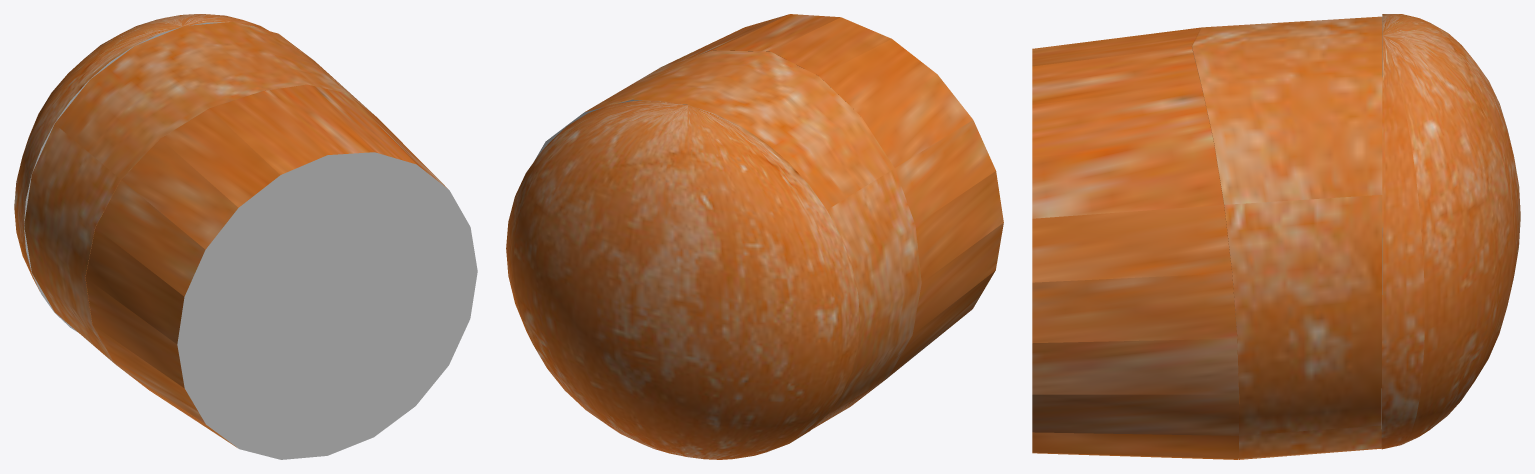
File: Carrot_end.fbx
3 renders of one model, left to right at view 1: azimuth 30°, elevation 25°; view 2: azimuth 150°, elevation 25°; view 3: azimuth 270°, elevation 25°, orthographic. The views are drawn at different scales.
Visible parts, largest first — view 1: polySurface62; view 2: polySurface62; view 3: polySurface62.
Part boxes in pixels (x1=…): polySurface62: x1=14, y1=14, x2=477, y2=459; polySurface62: x1=506, y1=14, x2=1003, y2=459; polySurface62: x1=1032, y1=14, x2=1520, y2=459.
Size of the model in its own units: 1.28 by 1.25 by 1.38.
